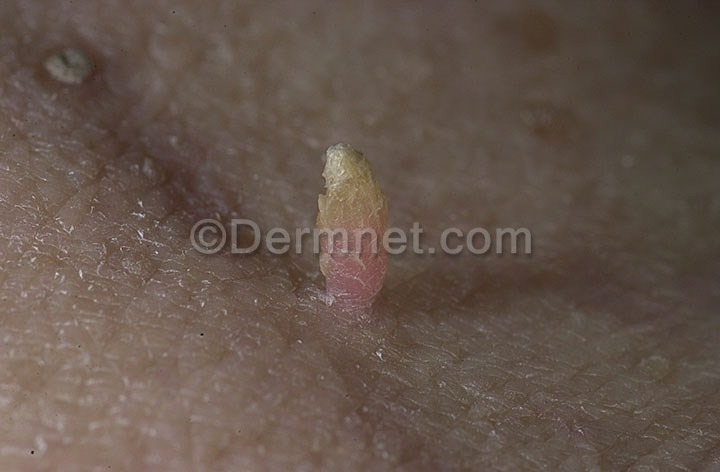Warts: (296, 119, 406, 229)
